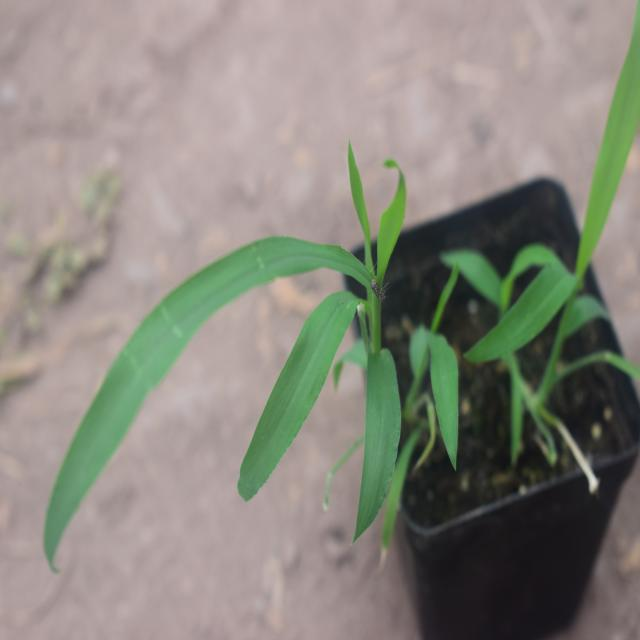crabgrass: (67, 127, 431, 552), (464, 25, 638, 378)
